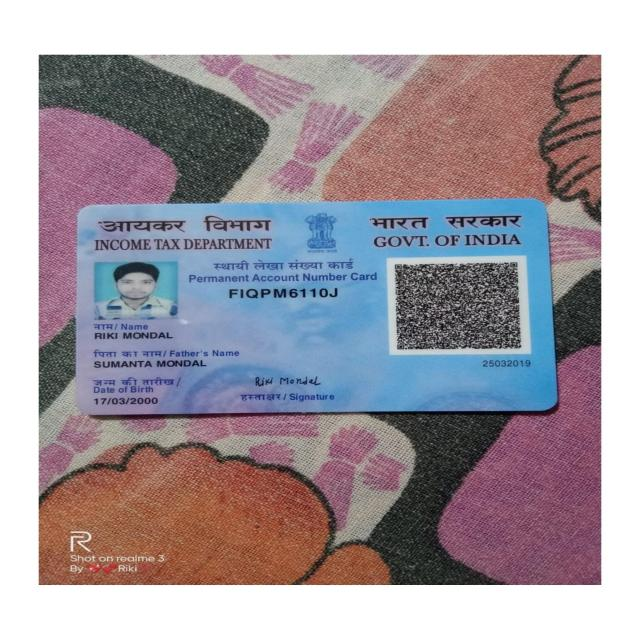pan_card: (81, 203, 554, 416)
